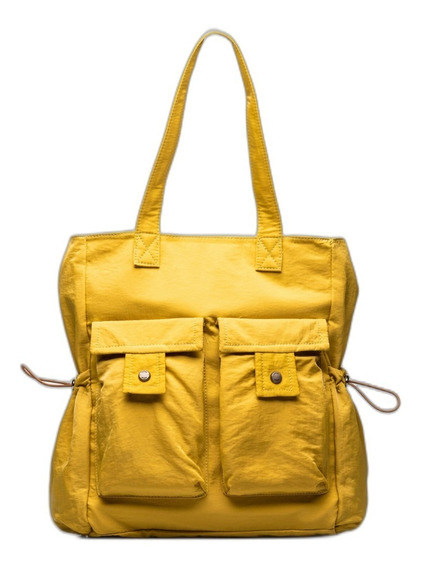cartera: (48, 28, 370, 540)
